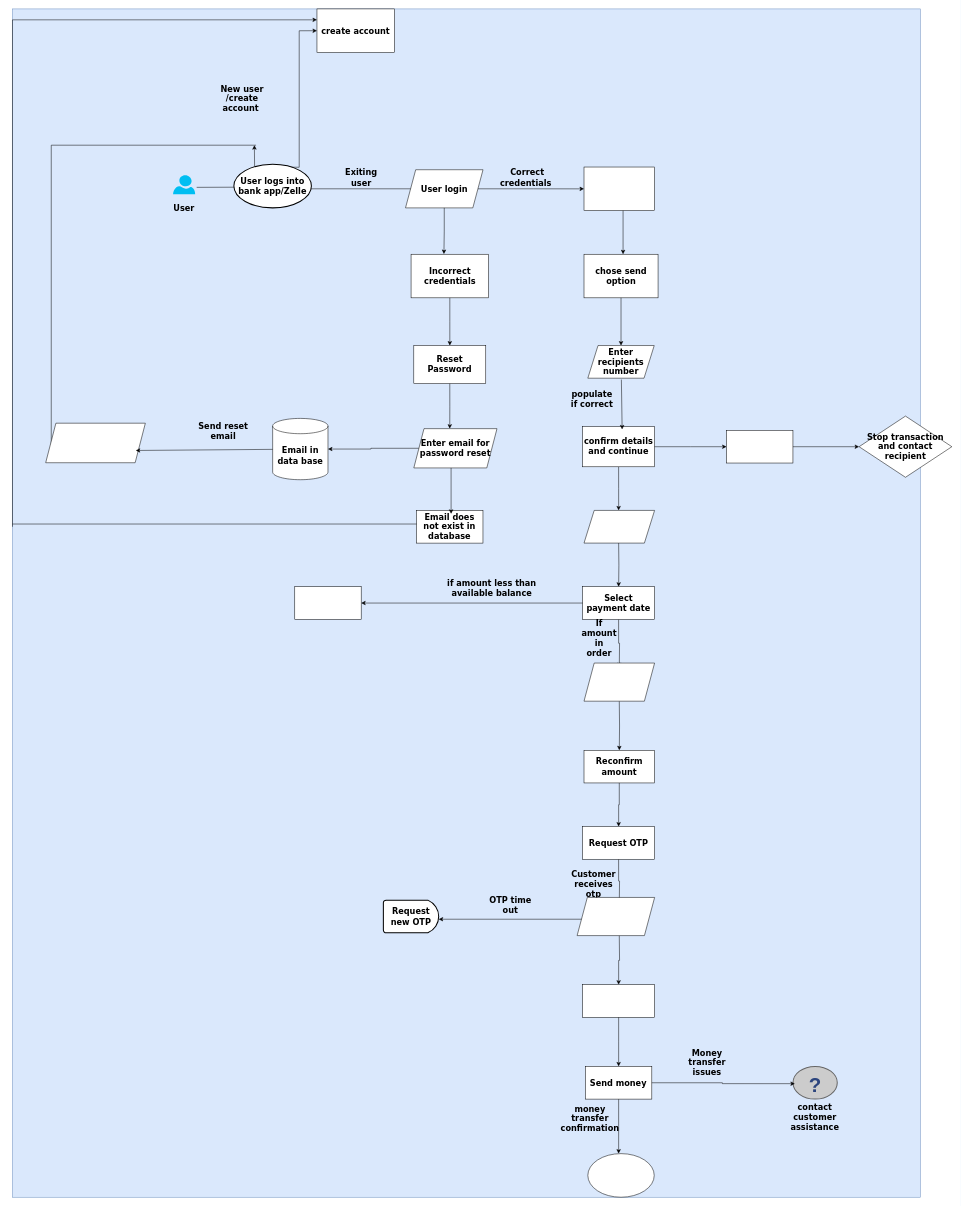
Image size: 961x1206. Some labels were removed from this diagram. The shapes that lost their labels are listed below. From the top down, each one's centre as x and y in pixels, then its label:
At (x=619, y=189): "Home page".
At (x=95, y=443): "User enters new password".
At (x=759, y=446): "If recipient not on zelle".
At (x=619, y=526): "Enters amount".
At (x=327, y=602): "chose less/available amount".
At (x=619, y=682): "Enter narration".
At (x=616, y=916): "Inout OTP".
At (x=618, y=1000): "Confirm all details and continue".
At (x=620, y=1175): "User logs out".
